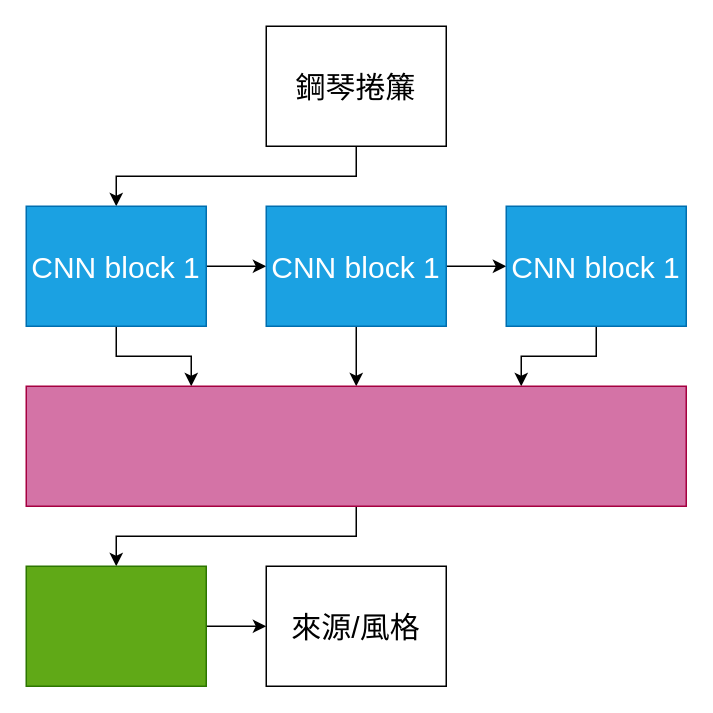
Image size: 713x713. Some labels were removed from this diagram. Each missing label, with the centre of its shape:
"Attention block" belongs at (355,445).
"FCNN classifier" belongs at (115,625).
